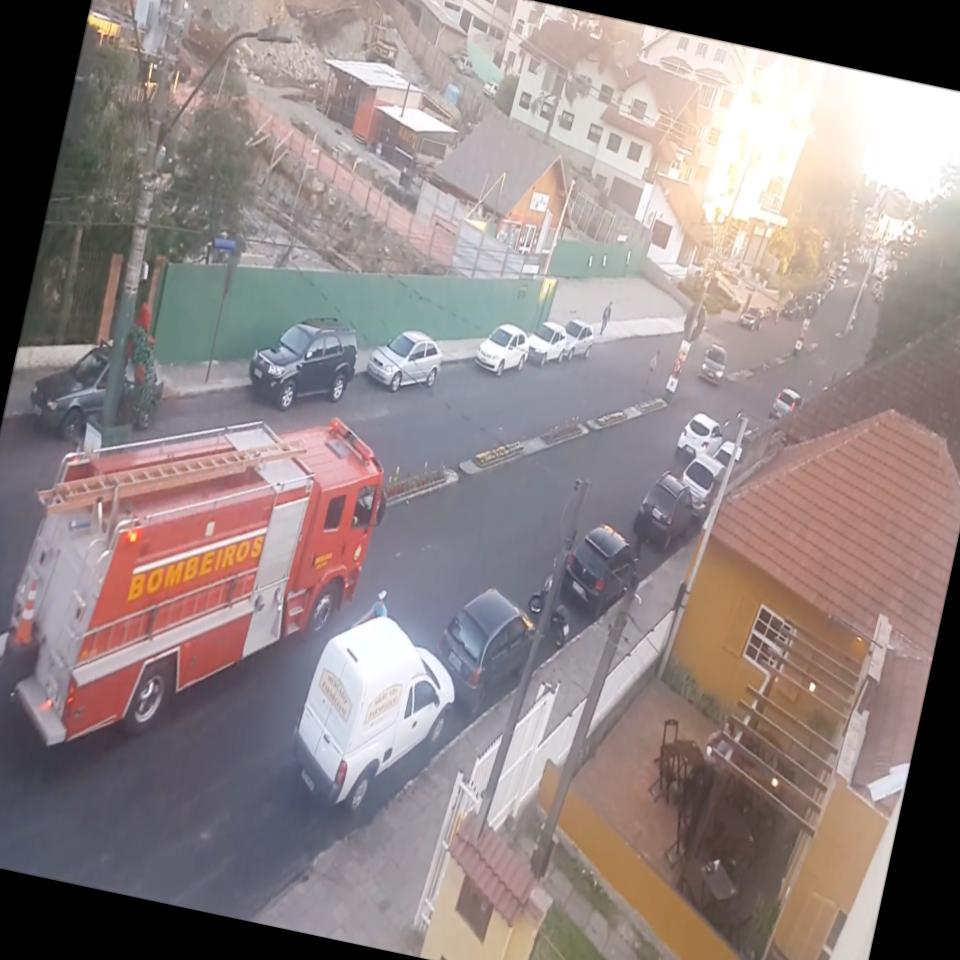viatura: (0, 358, 406, 810)
